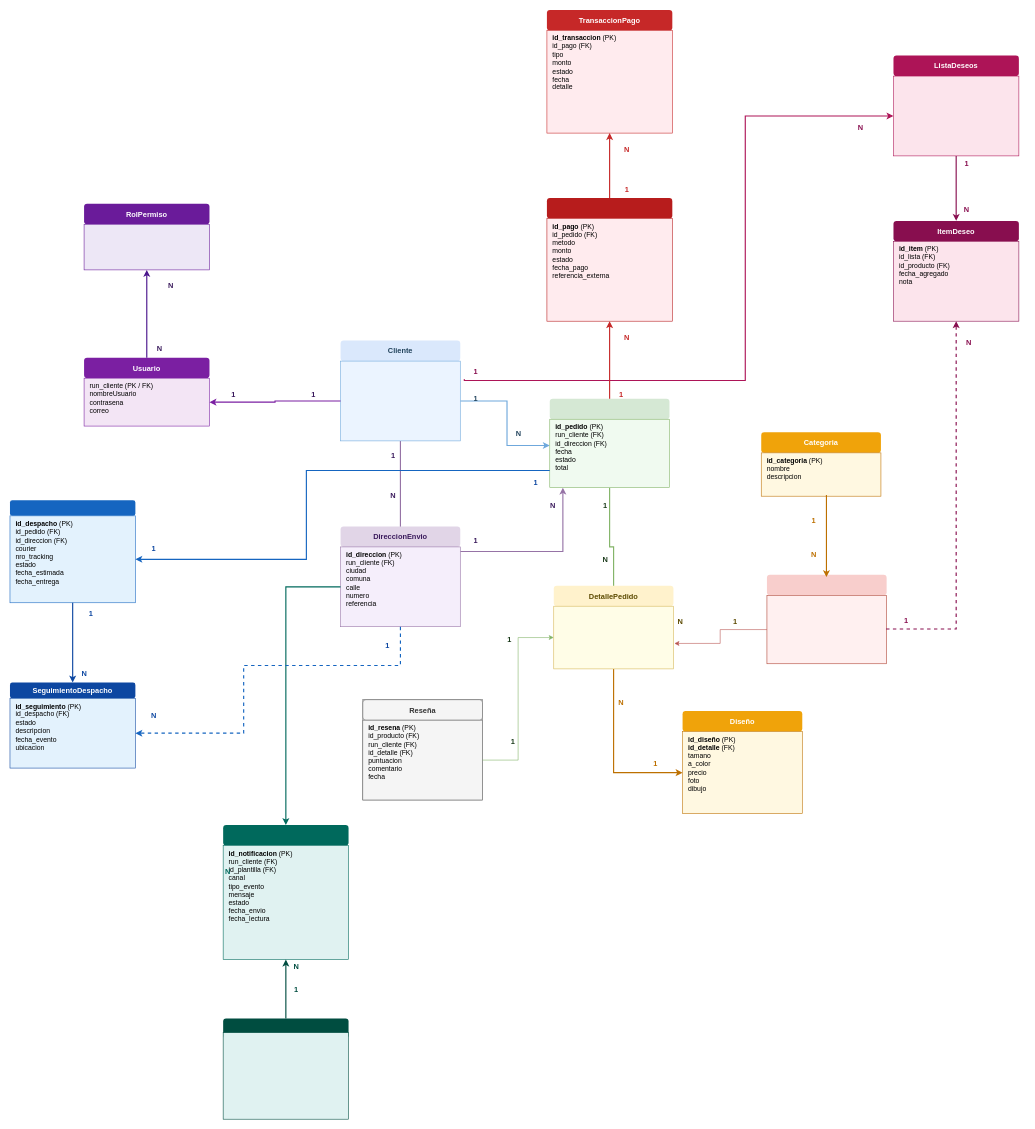
Some shapes in this 1035 by 1129 pixel diagram are drawn without their labels. Each missing label, with the centre of its shape:
"Despacho" belongs at [72,508].
"id_detalle (PK) id_pedido (FK) id_producto (FK) cantidad precio_unitario" belongs at [613,637].
"id_lista (PK) run_cliente (FK) nombre fecha_creacion estado" belongs at [956,116].
"id_plantilla (PK) tipo_evento canal asunto cuerpo idioma" belongs at [286,1075].
"id_producto (PK) id_categoria (FK) tipo_producto valor stock estado" belongs at [826,629].
"id_rol (PK) nombreRol descripcion" belongs at [146,247].
"Notificacion" belongs at [285,835].
"Pago" belongs at [609,208].
"Pedido" belongs at [609,408].
"PlantillaNotificacion" belongs at [285,1028].
"Producto" belongs at [826,585].
"run (PK) primer_nombre segundo_nombre ap_paterno ap_materno correo telefono" belongs at [400,401].
